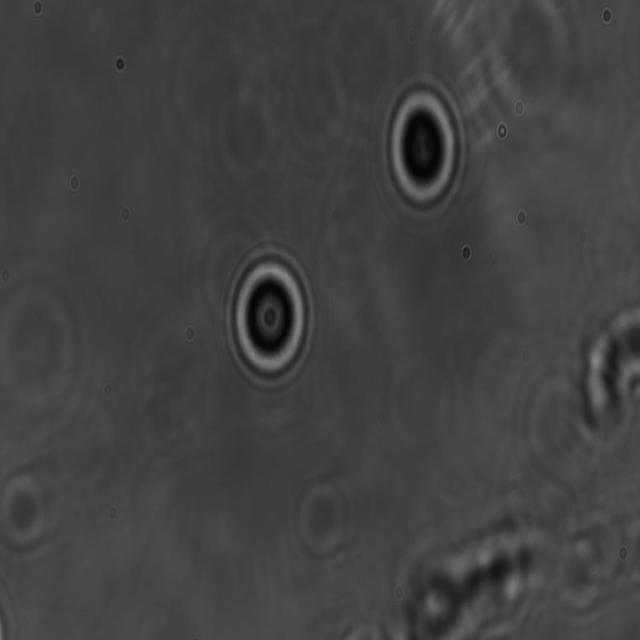LCELL: (222, 239, 316, 395)
